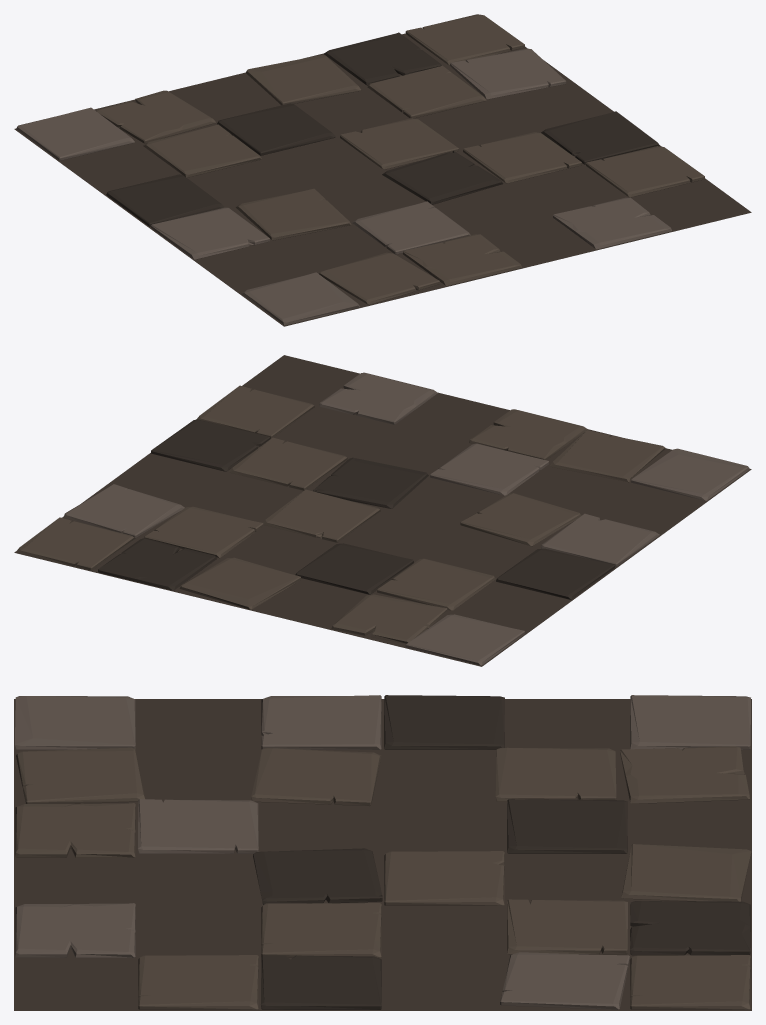
File: Slab2.glb
The picture shows the model from 3 angles, top to bottom: view 1: azimuth 30°, elevation 25°; view 2: azimuth 150°, elevation 25°; view 3: azimuth 270°, elevation 25°; orthographic projection. The views are drawn at different scales.
Visible parts, largest first — view 1: world; view 2: world; view 3: world.
Boxes of the visible parts, x1,y1,x2,y2 form: world: [14, 14, 751, 326]; world: [14, 355, 751, 666]; world: [14, 695, 751, 1010].
Size of the model in its own units: 600 by 4.88 by 600.
